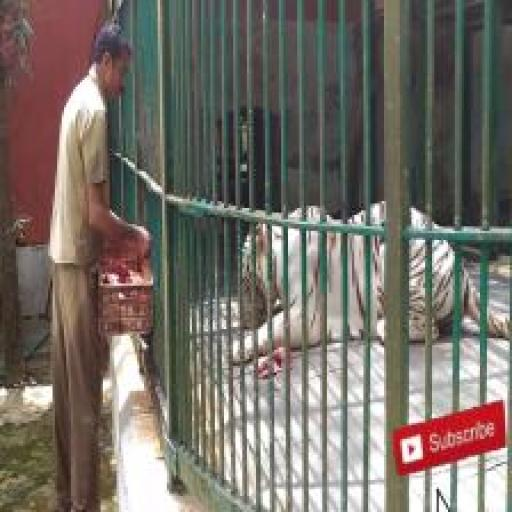Tiger: (233, 196, 512, 364)
